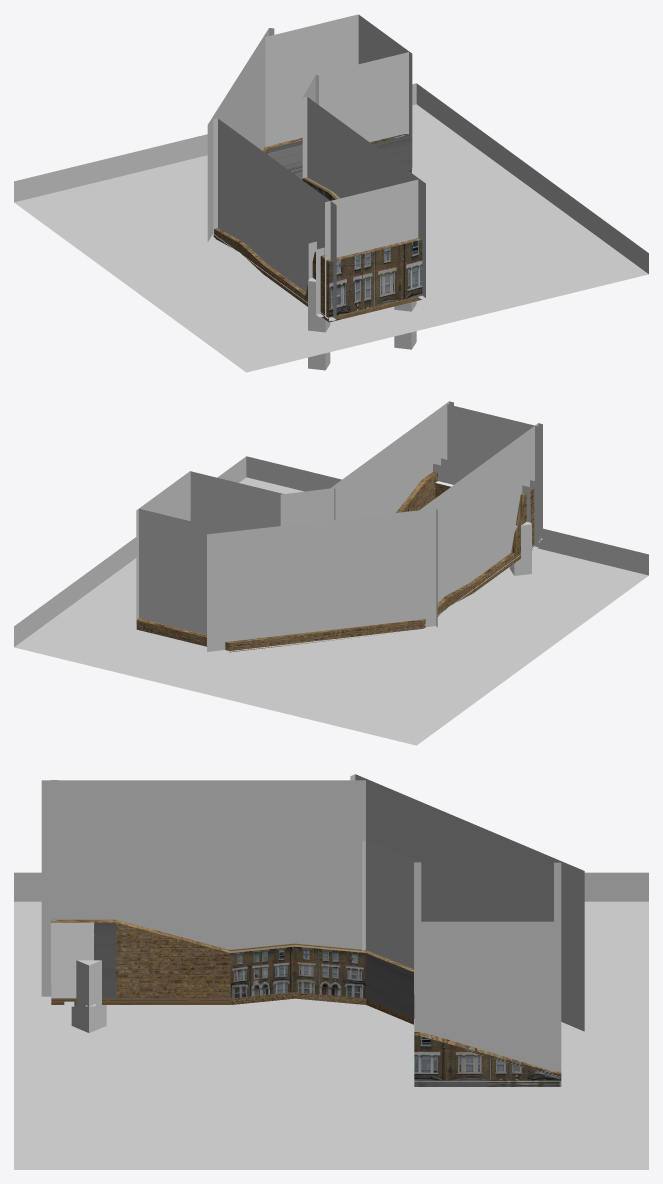
File: map2.gltf
3 renders of one model, top to bottom at view 1: azimuth 30°, elevation 25°; view 2: azimuth 150°, elevation 25°; view 3: azimuth 270°, elevation 25°, orthographic. The views are drawn at different scales.
Visible parts, largest first — view 1: Cube, Cube.007, ground, Cube.002, slope.004, Cube.005, Cube.008, slope, Cube.004, slope.001; view 2: Cube, slope, Cube.007, Cube.002, slope.004, ground, Cube.005, Cube.008, slope.003, Cube.004, slope.001, block (+1 smaller); view 3: Cube, slope.004, ground, slope, Cube.004, Cube.007, slope.003, slope.002, Cube.005.
Boxes of the visible parts, box(x1,y1,x2,y2) form: Cube: box(14, 83, 648, 372); Cube.007: box(213, 118, 336, 320); ground: box(213, 134, 422, 322); Cube.002: box(265, 15, 360, 146); slope.004: box(302, 97, 425, 299); Cube.005: box(316, 52, 411, 169); Cube.008: box(325, 179, 420, 318); slope: box(207, 28, 274, 242); Cube.004: box(354, 14, 412, 167); slope.001: box(308, 277, 330, 370); Cube: box(14, 456, 648, 745); slope: box(207, 508, 437, 654); Cube.007: box(420, 423, 542, 625); Cube.002: box(136, 508, 231, 634); slope.004: box(331, 401, 453, 519); ground: box(136, 471, 534, 652); Cube.005: box(188, 471, 283, 531); Cube.008: box(444, 404, 540, 542); slope.003: box(280, 488, 335, 525); Cube.004: box(139, 471, 194, 521); slope.001: box(509, 521, 531, 575); block: box(433, 463, 530, 555); Cube: box(14, 872, 648, 1169); slope.004: box(41, 840, 365, 999); ground: box(50, 919, 561, 1086); slope: box(350, 774, 584, 1033); Cube.004: box(414, 921, 561, 1081); Cube.007: box(41, 780, 365, 839); slope.003: box(362, 840, 420, 969); slope.002: box(71, 960, 106, 1032); Cube.005: box(414, 862, 421, 1080).
Bounding box in the file's own units: 171 × 70.29 × 171.
1 material, 1 textured.
